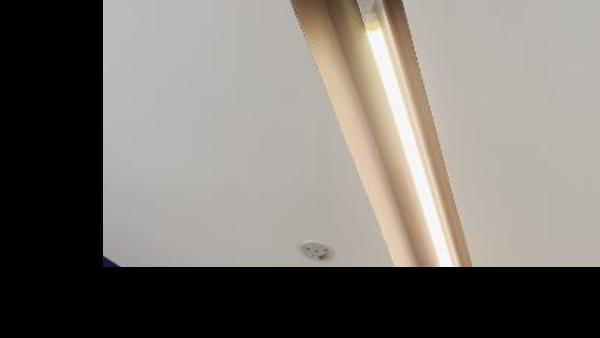light_on: (351, 0, 500, 337)
